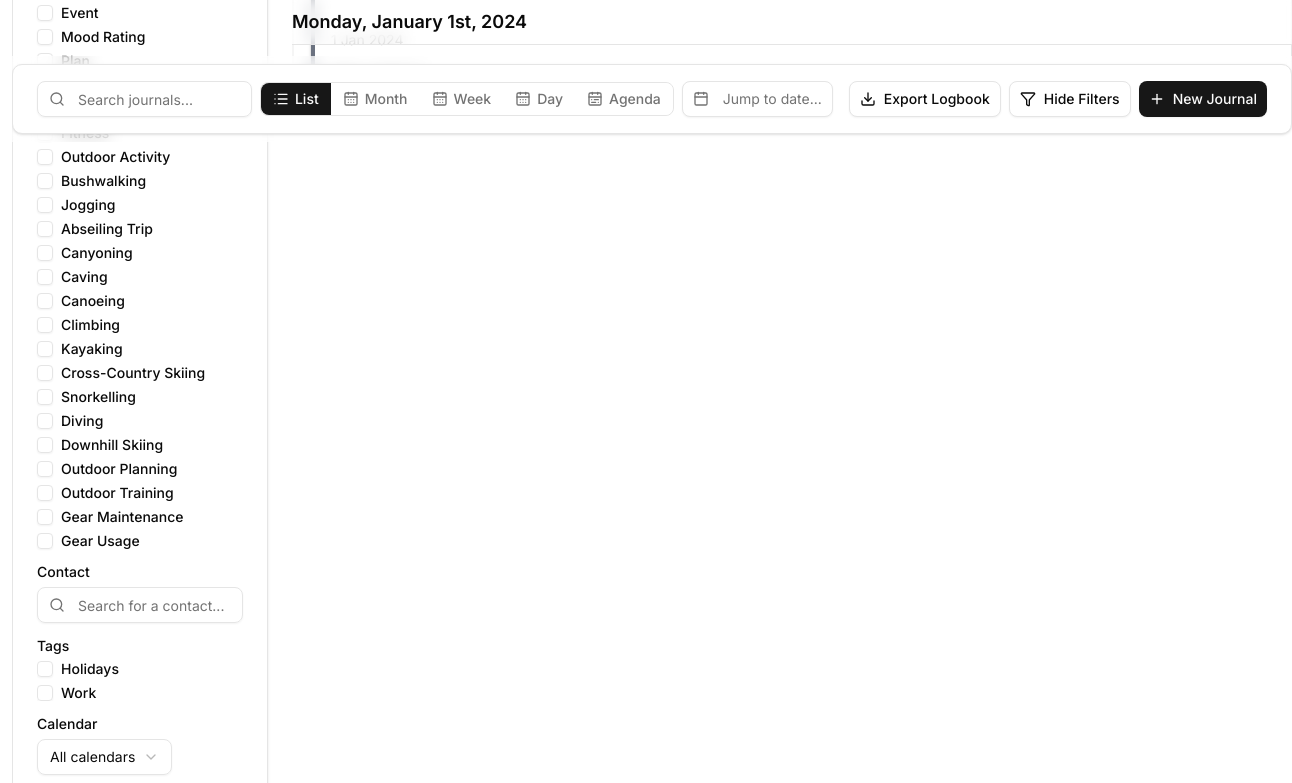
Test: JournalsPage › tag deep link (/journals?tag=<id>) › flags that search ignores tag filters selected in the panel
(page scrolled)
Click the checkbox named "Work" next to "Work" at (45, 693), box x1=37 y1=685 x2=53 y2=701
(page scrolled)
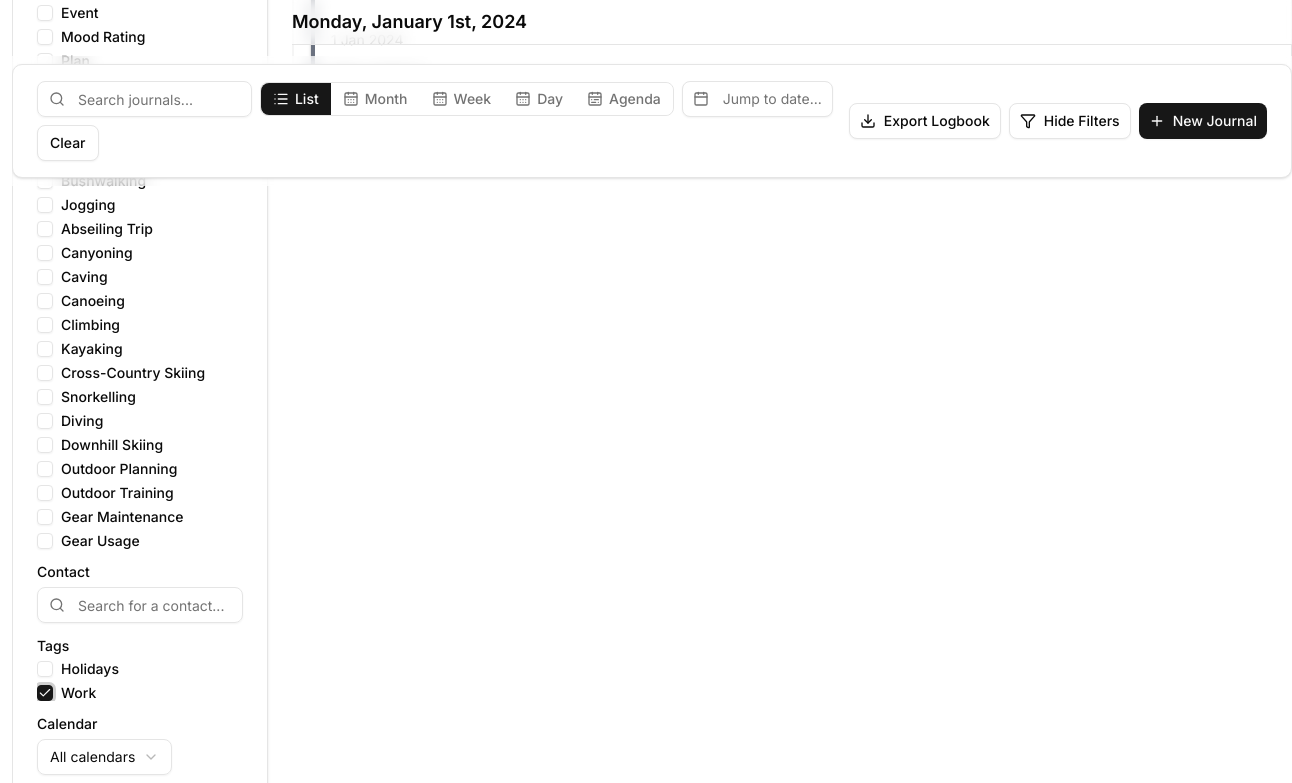
Type "hike" into the field with test id "search-input" at (144, 99), box x1=37 y1=81 x2=252 y2=117
(page scrolled)
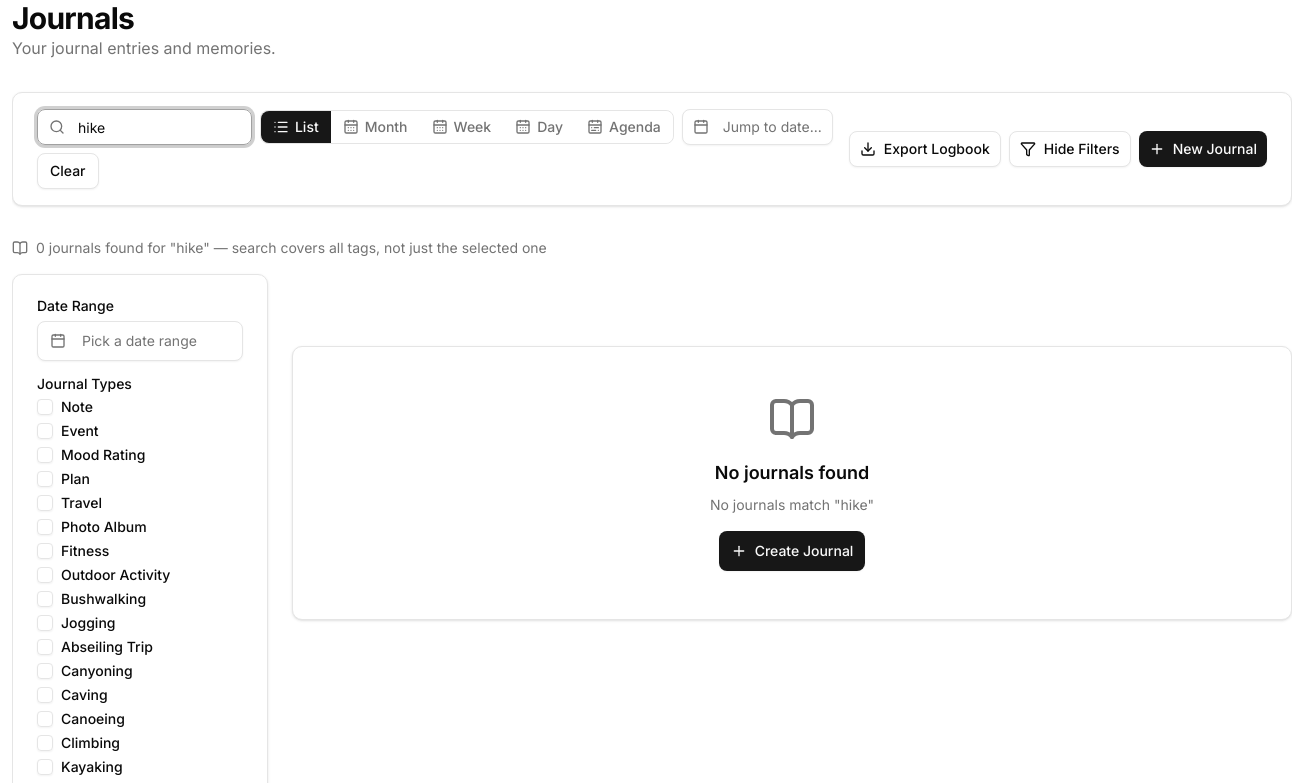
Expected: the text "search covers all tags, not just the selected one" is shown, x1=36 y1=239 x2=547 y2=256
